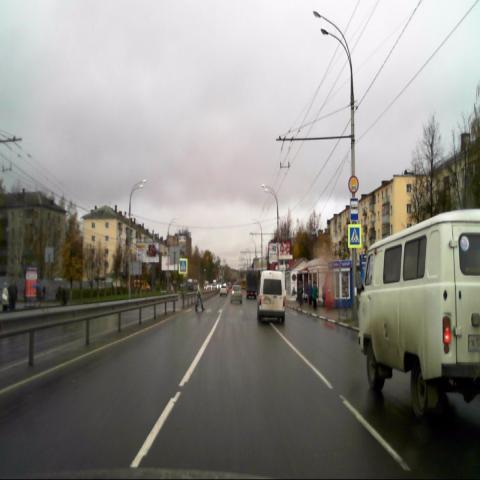5_19_1: (348, 225, 361, 248)
